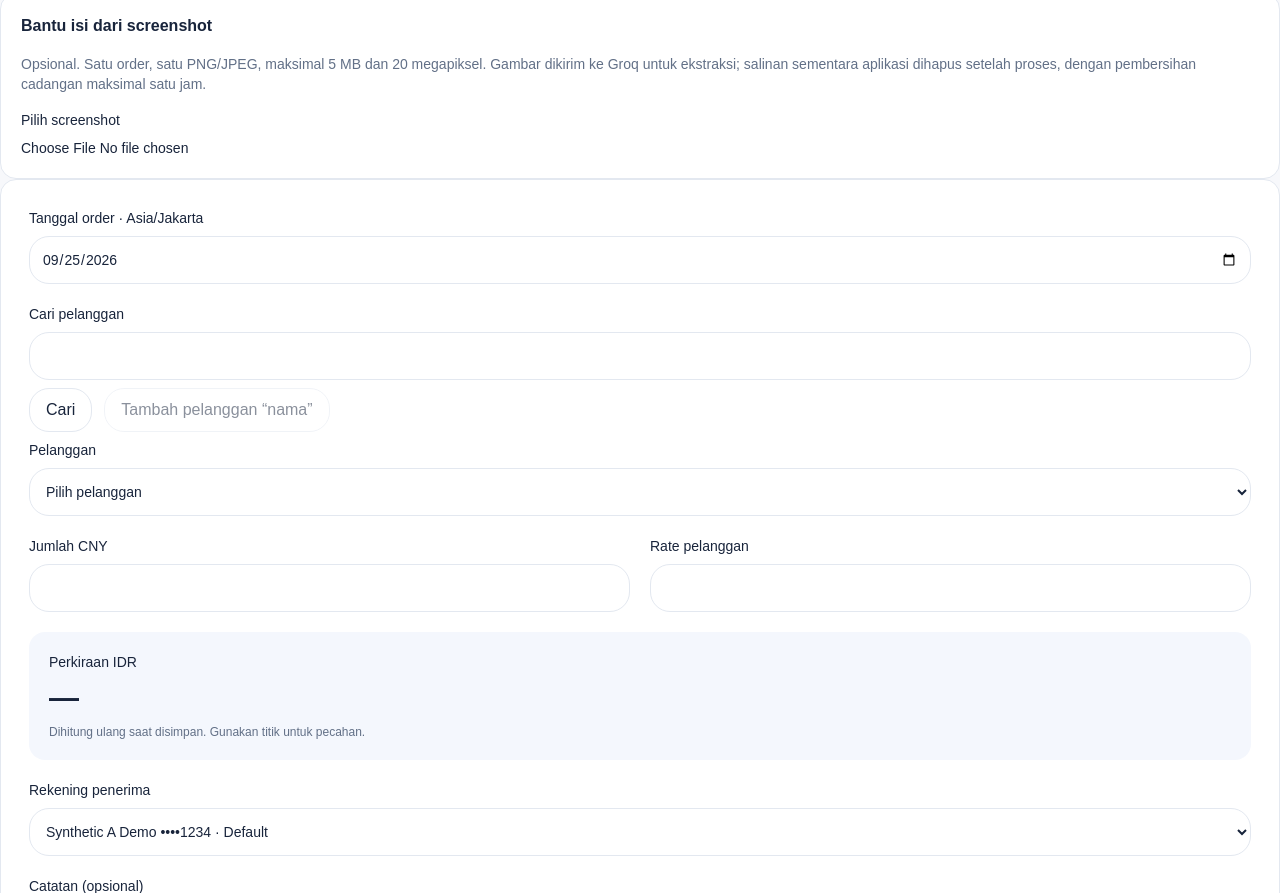
Test case: keeps the exact payload and idempotency key after an uncertain result
The width and height of the screenshot is (1280, 893).
Step 1. Select "Synthetic Customer" in the dropdown labelled "Pelanggan" → (640, 492), box 29,468 -> 1251,516
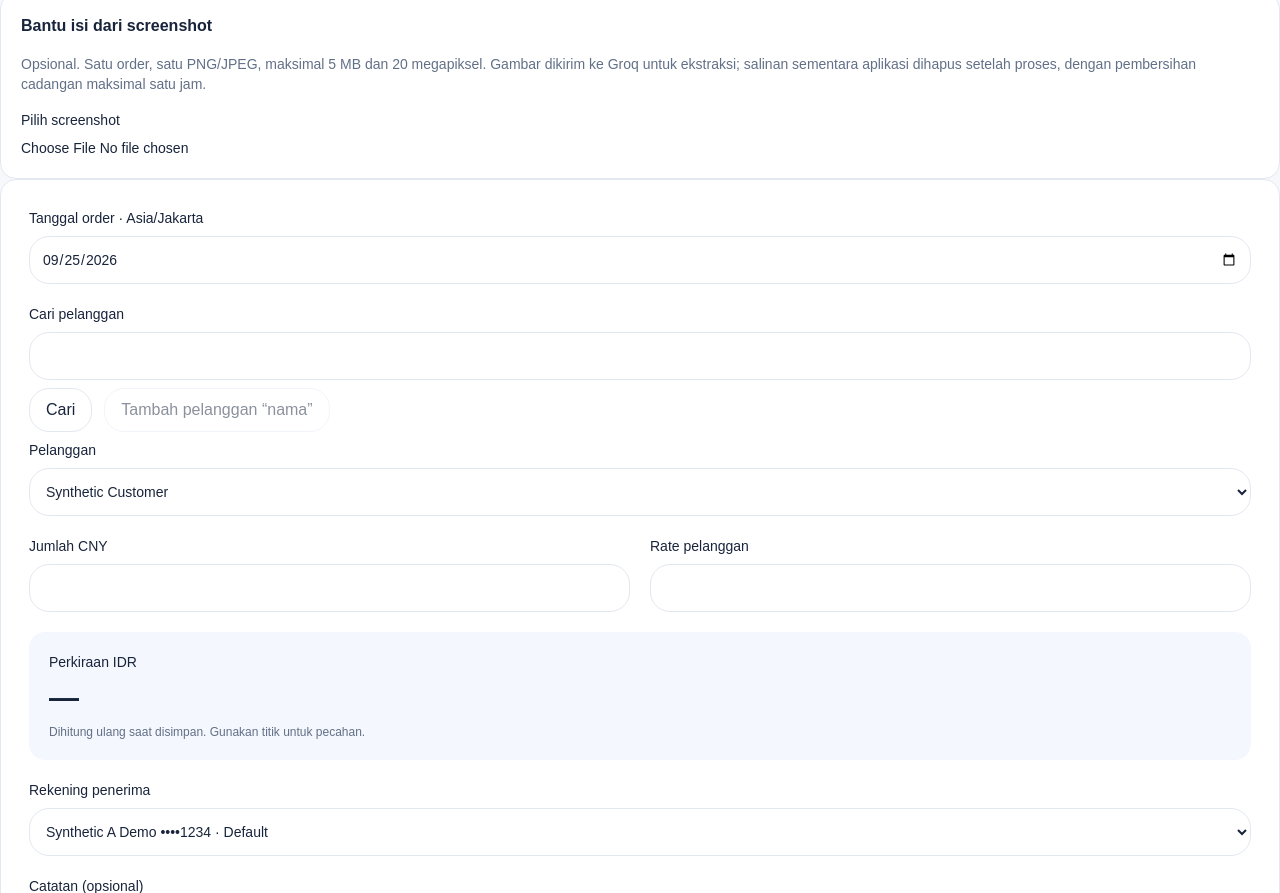
Step 2. Type "1.00" into the field labelled "Jumlah CNY" → (330, 588), box 29,564 -> 630,612
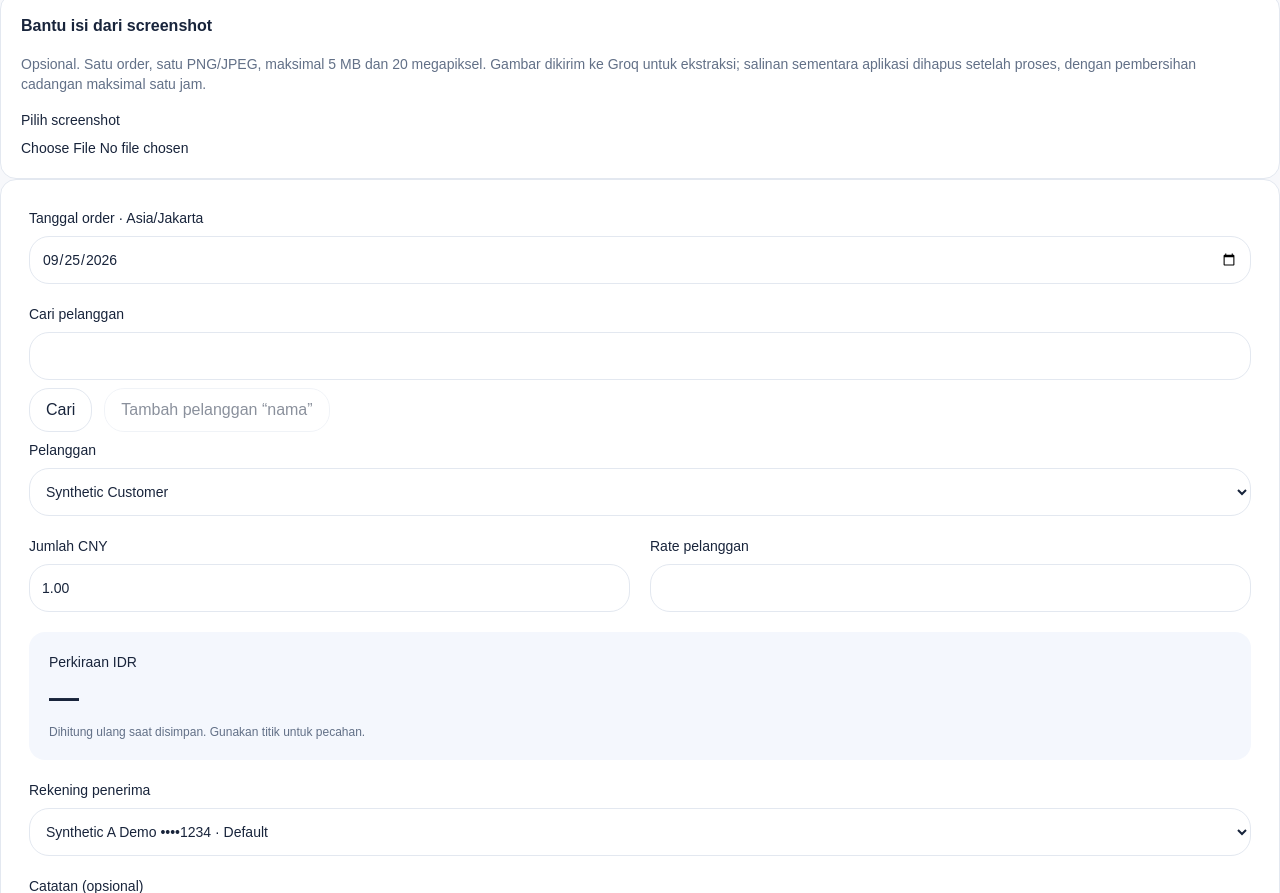
Step 3. Type "100.005" into the field labelled "Rate pelanggan" → (950, 588), box 650,564 -> 1251,612
(page scrolled)
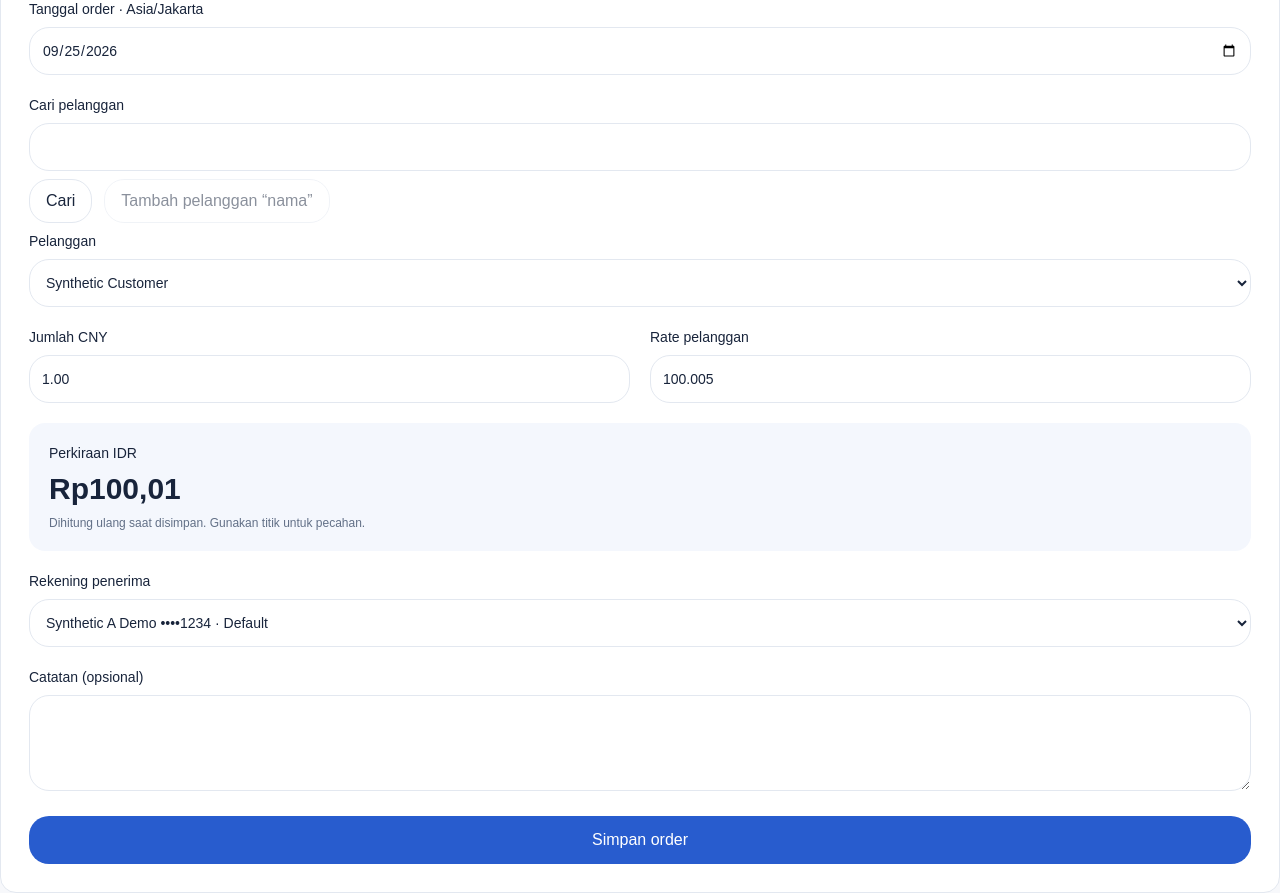
Step 4. Click the button "Simpan order" → (640, 840), box 29,816 -> 1251,864
(page scrolled)
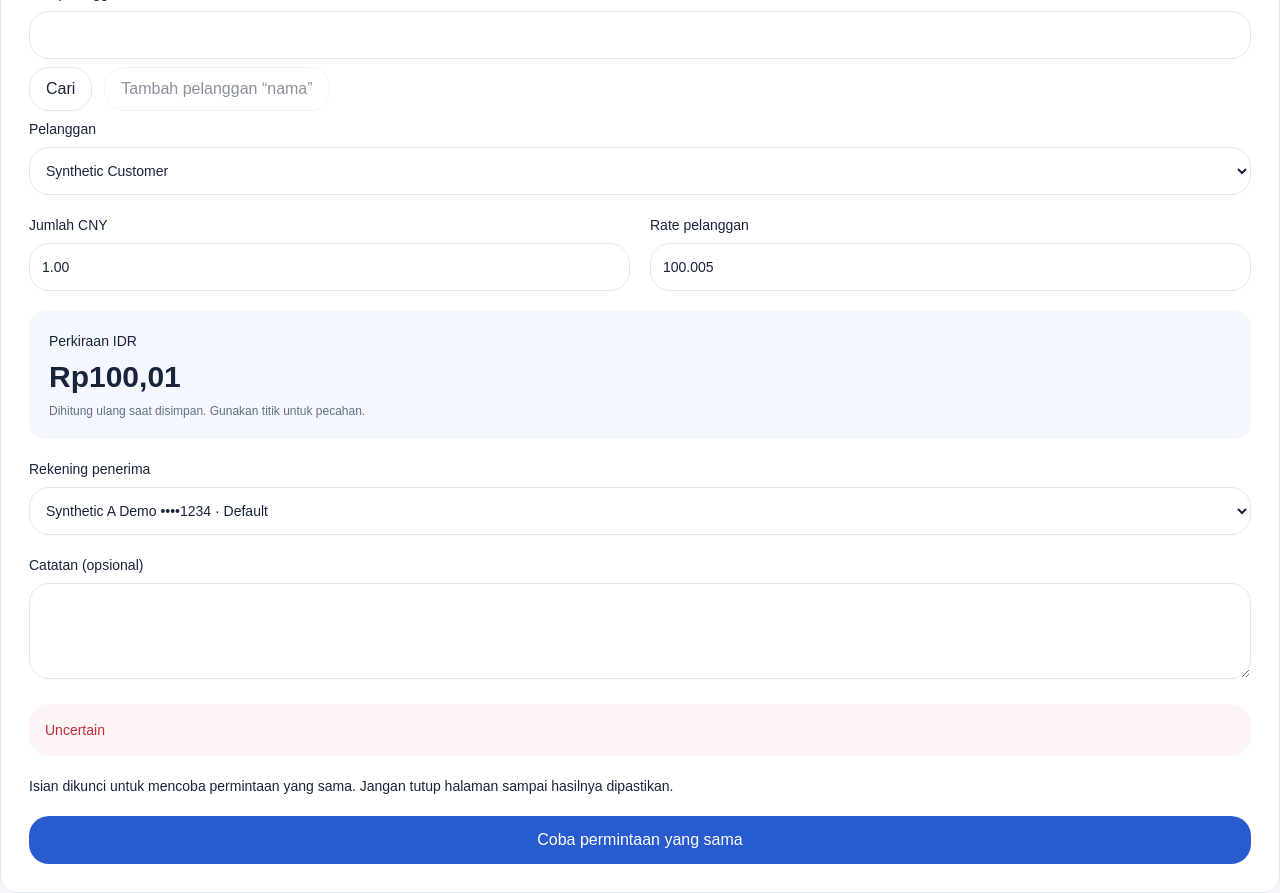
Expected: the field labelled "Jumlah CNY" is disabled, 29,243 -> 630,291
Result: the message reads "Uncertain" at 45,722 -> 105,738
Step 5. Click the button "Coba permintaan yang sama" → (640, 840), box 29,816 -> 1251,864
(page scrolled)
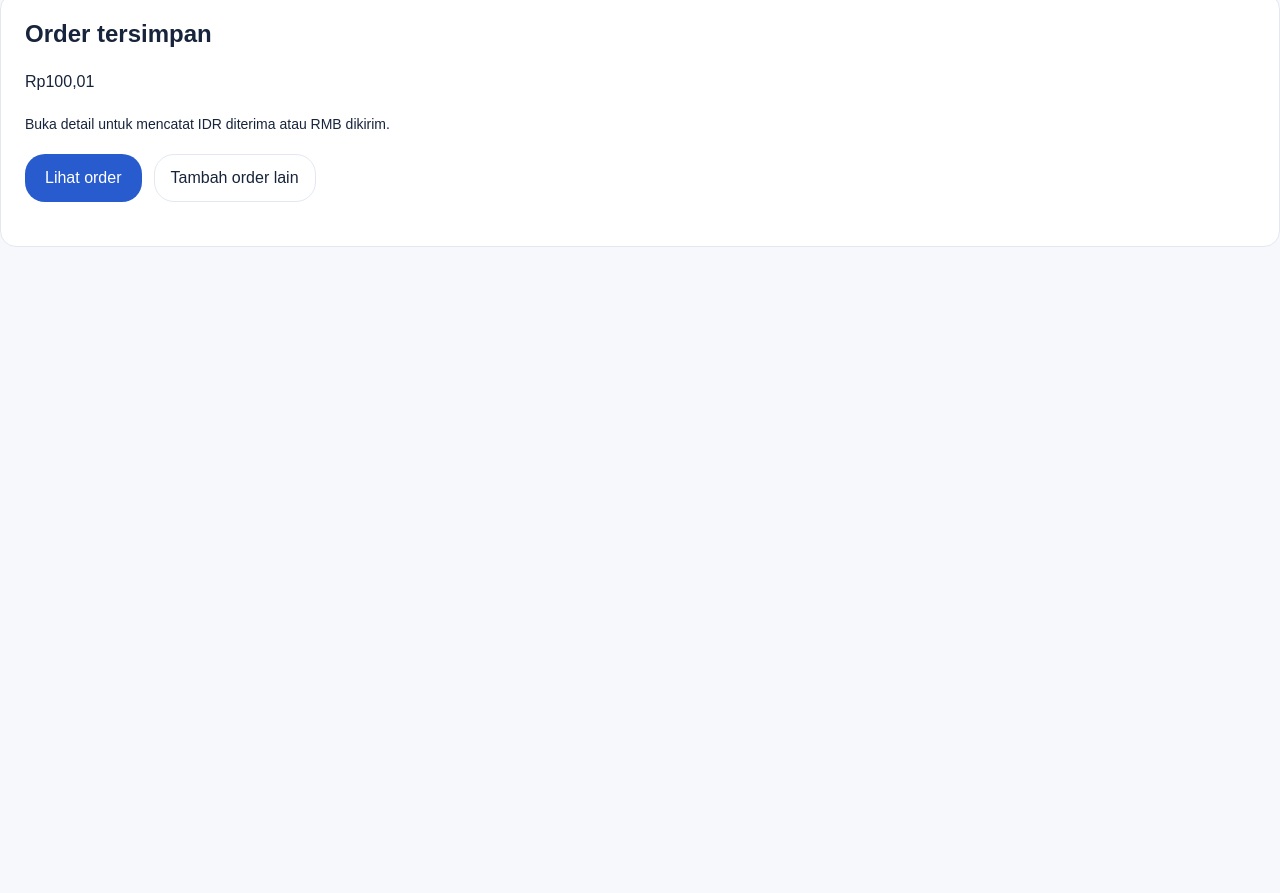
Result: the heading "Order tersimpan" is shown at 25,20 -> 212,47
